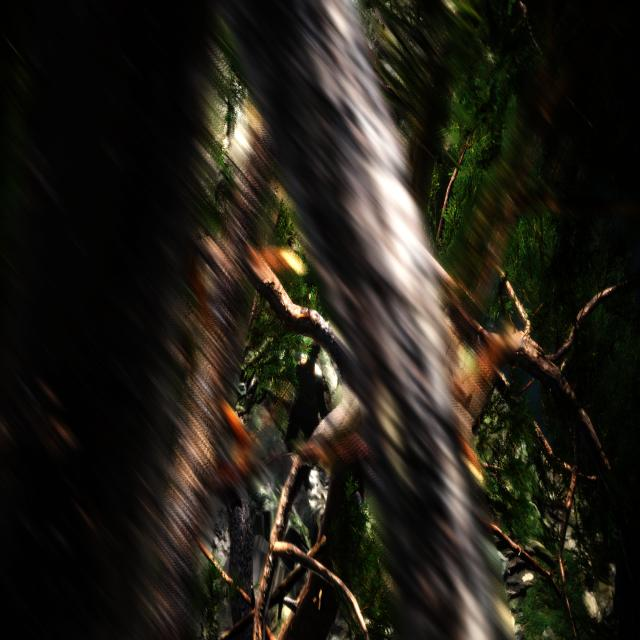Human: (274, 319, 336, 545)
